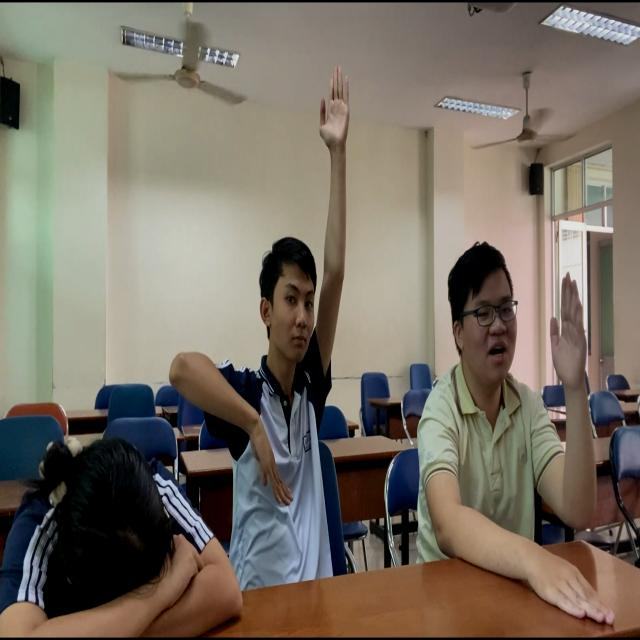raise_hand: (415, 232, 605, 593)
sleep: (8, 434, 269, 640)
